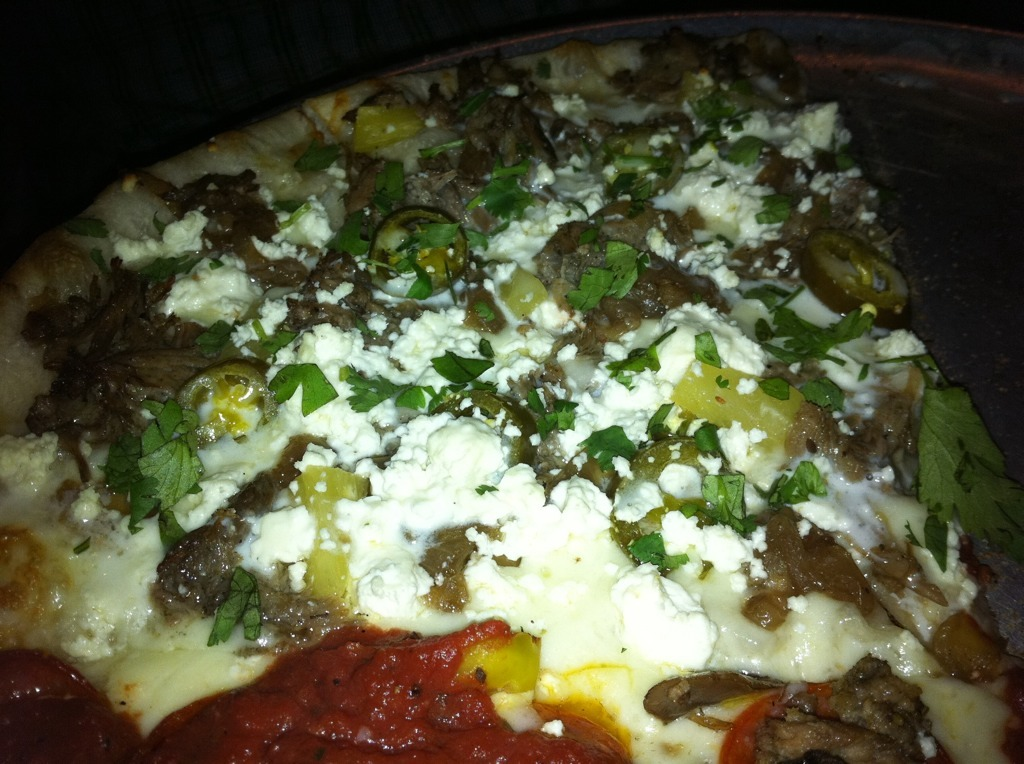Pizza: (0, 15, 1024, 758)
